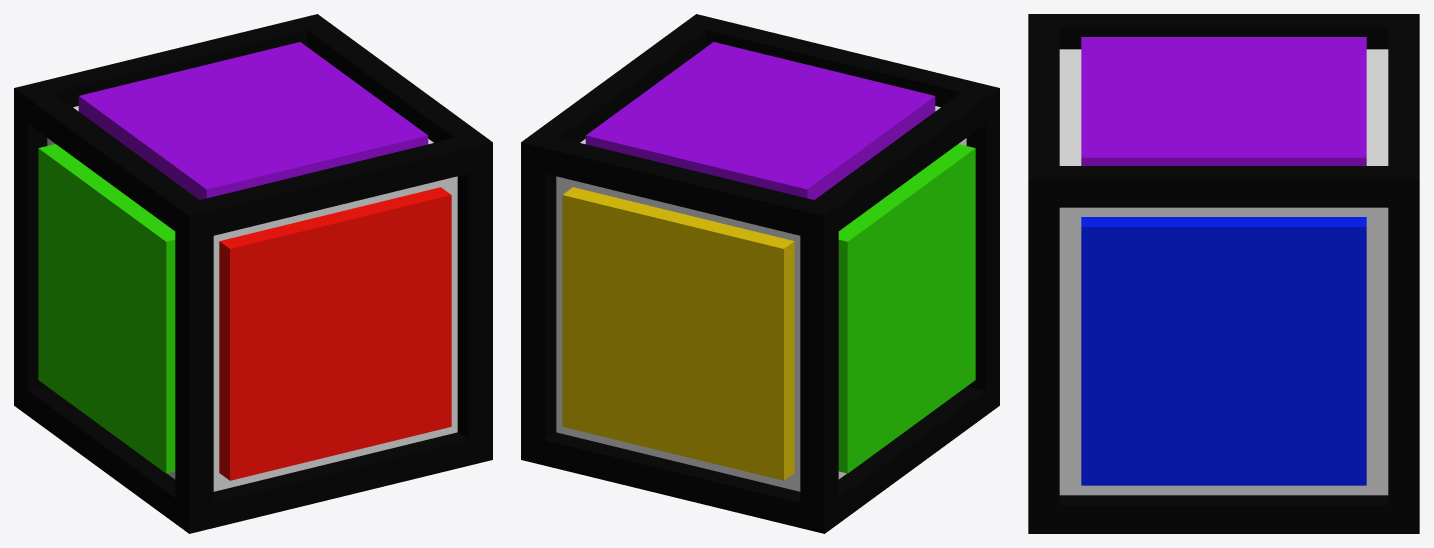
The model's file is Def.fbx.
3 renders of one model, left to right at view 1: azimuth 30°, elevation 25°; view 2: azimuth 150°, elevation 25°; view 3: azimuth 270°, elevation 25°, orthographic. The views are drawn at different scales.
Parts seen in each view (by area): view 1: Cube.002; view 2: Cube.002; view 3: Cube.002.
Part boxes in pixels (bbox=[...]): Cube.002: bbox=[14, 14, 492, 533]; Cube.002: bbox=[521, 14, 999, 533]; Cube.002: bbox=[1028, 14, 1419, 533].
Size of the model in its own units: 160 by 160 by 160.
